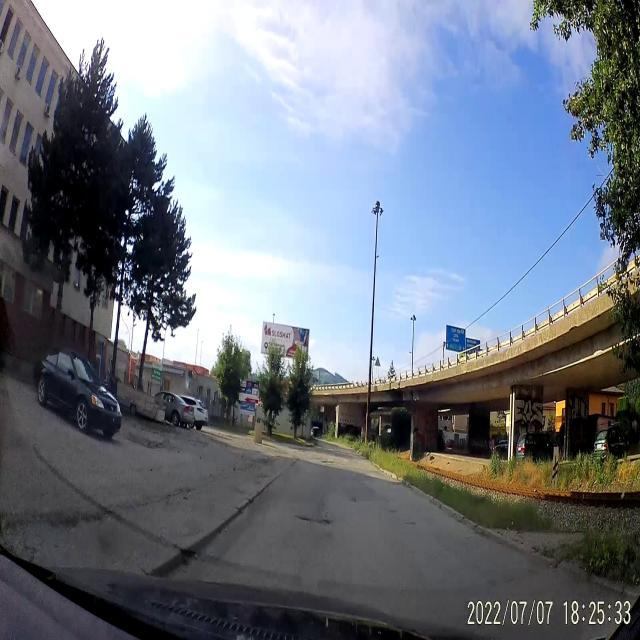Pothole: (296, 505, 334, 535), (402, 515, 418, 531), (346, 492, 361, 506), (386, 503, 399, 517), (321, 458, 334, 466)
